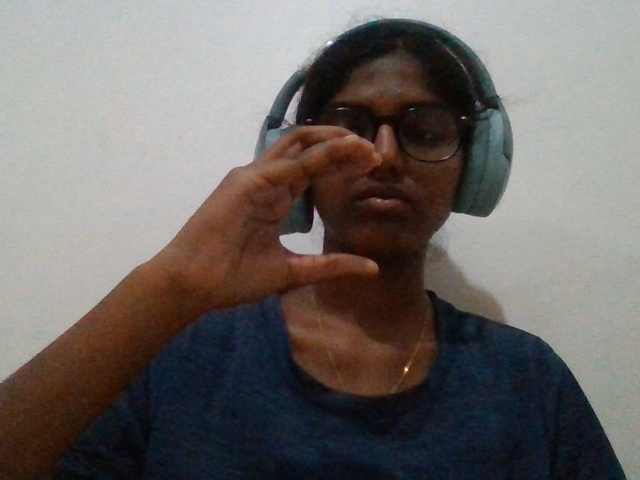C: (89, 111, 422, 364)
